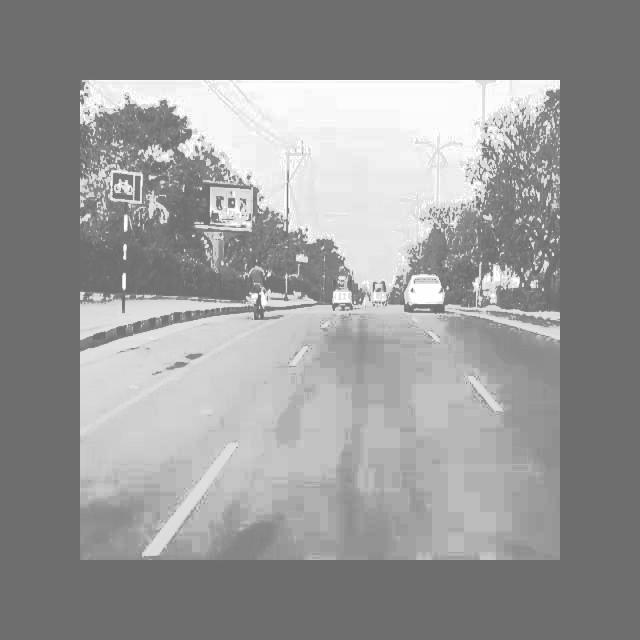Auto-Rickshaw: (330, 276, 358, 314), (372, 280, 390, 310)
Bike: (248, 259, 270, 322)
Car: (399, 265, 450, 323)
